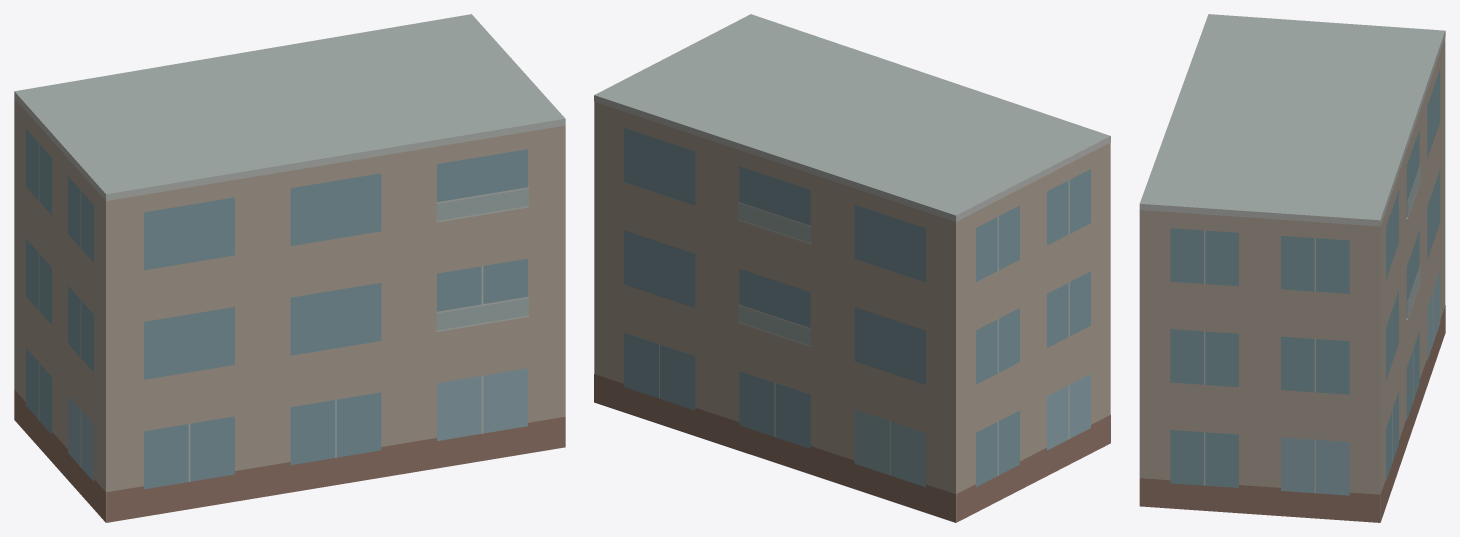
File: survey-upis-32657668.glb
The picture shows the model from 3 angles, left to right: view 1: azimuth 30°, elevation 25°; view 2: azimuth 150°, elevation 25°; view 3: azimuth 270°, elevation 25°; orthographic projection. The views are drawn at different scales.
Parts seen in each view (by area): view 1: survey-upis-32657668.tmp; view 2: survey-upis-32657668.tmp; view 3: survey-upis-32657668.tmp.
Boxes of the visible parts, x1,y1,x2,y2 form: survey-upis-32657668.tmp: [14, 14, 565, 522]; survey-upis-32657668.tmp: [594, 14, 1110, 522]; survey-upis-32657668.tmp: [1139, 14, 1445, 522].
Bounding box in the file's own units: 17.33 × 11.85 × 10.86.
